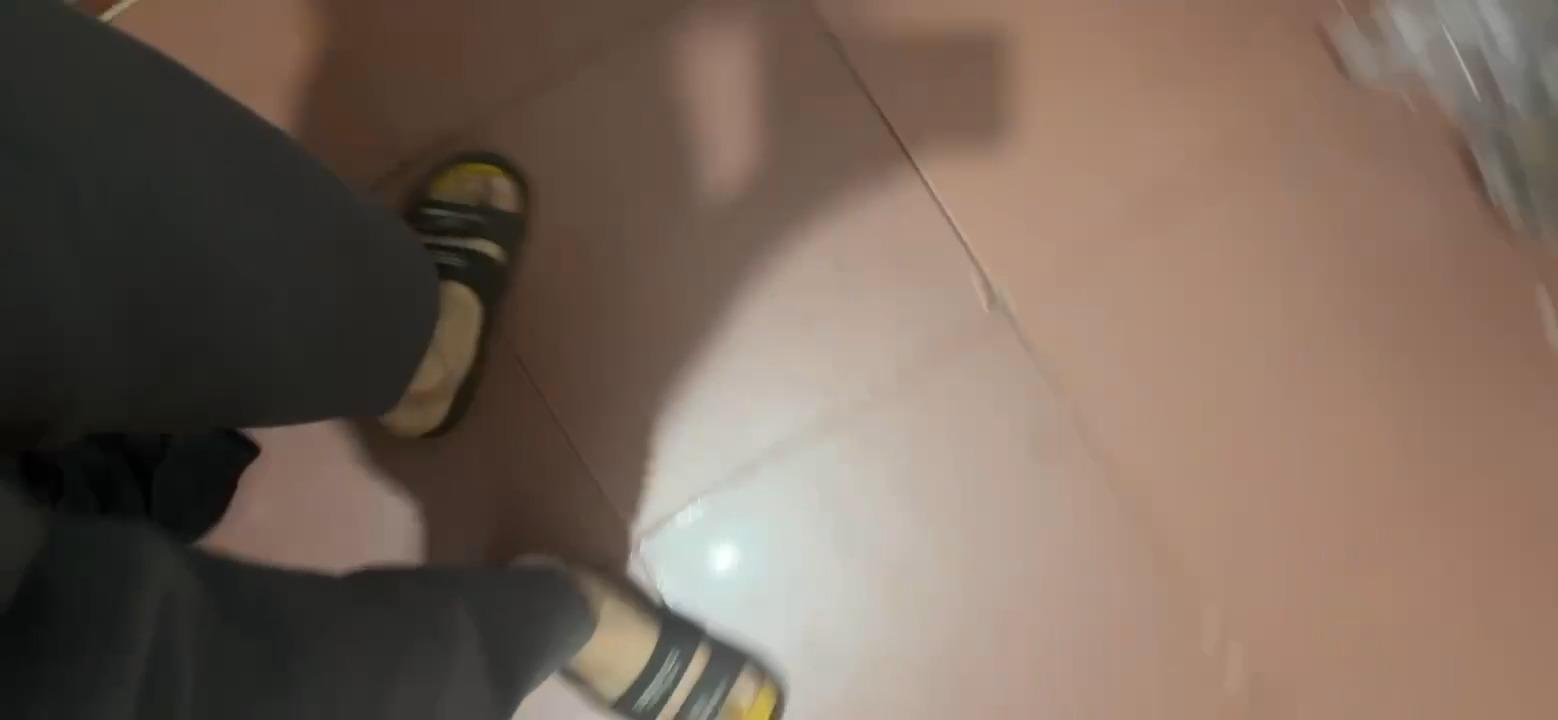no-boot: (509, 535, 771, 720), (377, 151, 534, 414)
